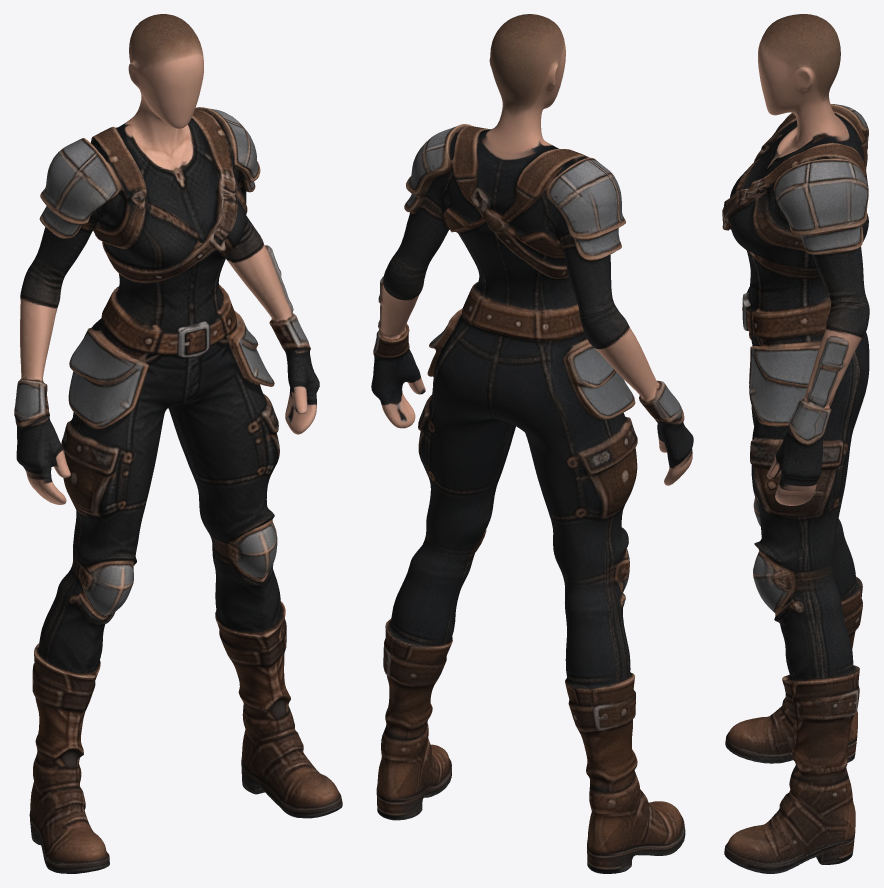
File: Corpo_Feminino_Médio.glb
3 renders of one model, left to right at view 1: azimuth 30°, elevation 25°; view 2: azimuth 150°, elevation 25°; view 3: azimuth 270°, elevation 25°, orthographic. The views are drawn at different scales.
Size of the model in its own units: 0.747 by 1.9 by 0.3223.
Materials: 1 (1 with a texture image).
